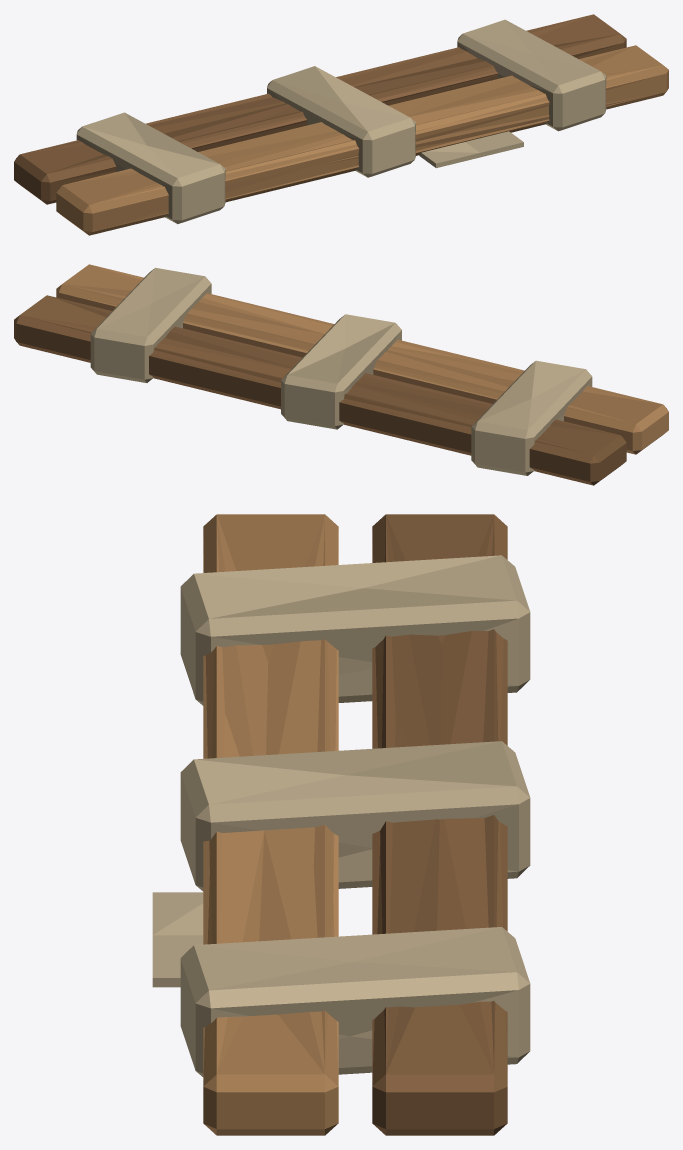
The model's file is splint_iz_dosok_i_tkani_idle.glb.
3 renders of one model, top to bottom at view 1: azimuth 30°, elevation 25°; view 2: azimuth 150°, elevation 25°; view 3: azimuth 270°, elevation 25°, orthographic. The views are drawn at different scales.
Visible parts, largest first — view 1: splint_iz_dosok_i_tkani_idle; view 2: splint_iz_dosok_i_tkani_idle; view 3: splint_iz_dosok_i_tkani_idle.
Boxes of the visible parts, x1,y1,x2,y2 form: splint_iz_dosok_i_tkani_idle: (14,14,668,235); splint_iz_dosok_i_tkani_idle: (14,264,668,485); splint_iz_dosok_i_tkani_idle: (152,514,530,1135).
Bounding box in the file's own units: 0.4 × 0.03 × 0.1117.
Materials: 1 (1 with a texture image).
